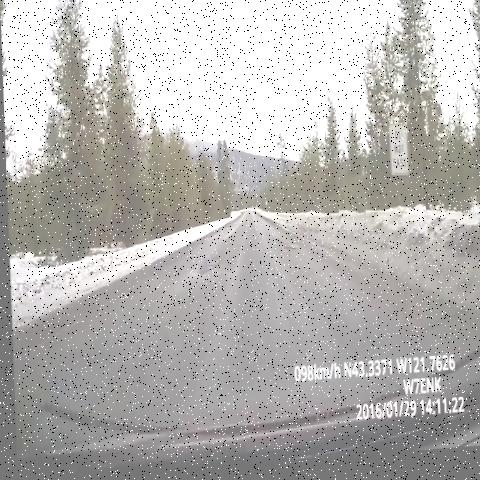pothole: (193, 247, 224, 287), (270, 231, 300, 268)
